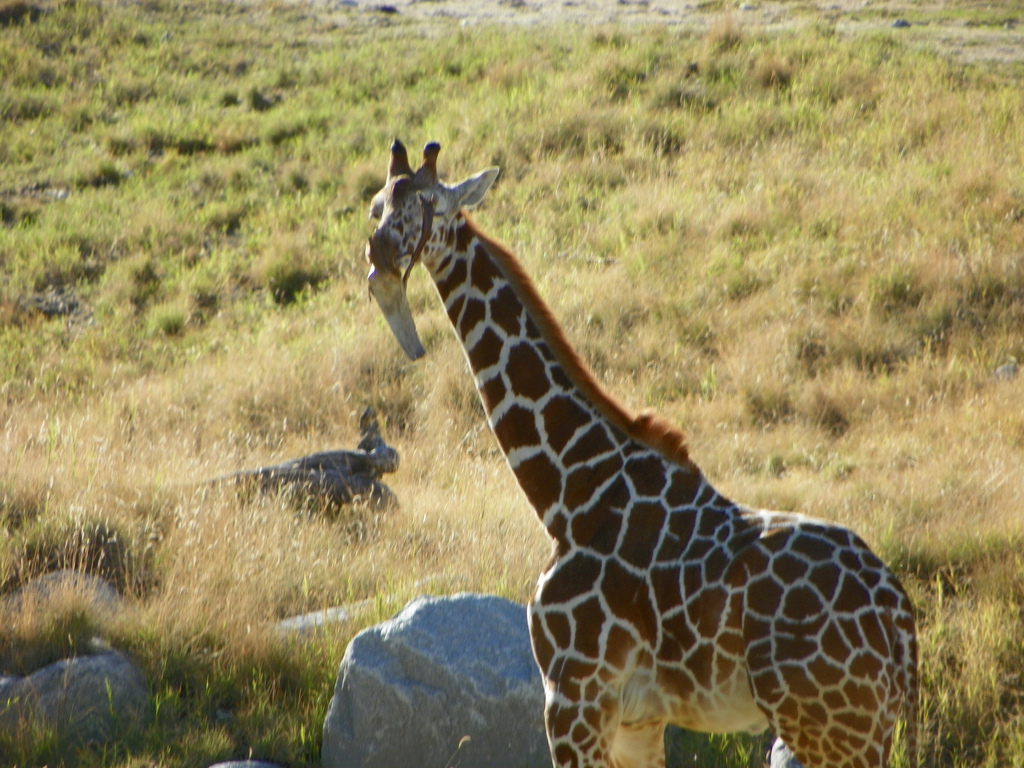giraffe: (317, 117, 944, 732)
